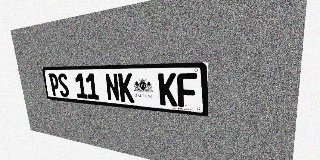1: (85, 73, 99, 100), (74, 73, 88, 99)
F: (177, 73, 197, 108)
K: (158, 73, 177, 106), (118, 73, 134, 103)
N: (104, 73, 120, 102)
P: (48, 73, 60, 96)
S: (57, 73, 70, 97)
